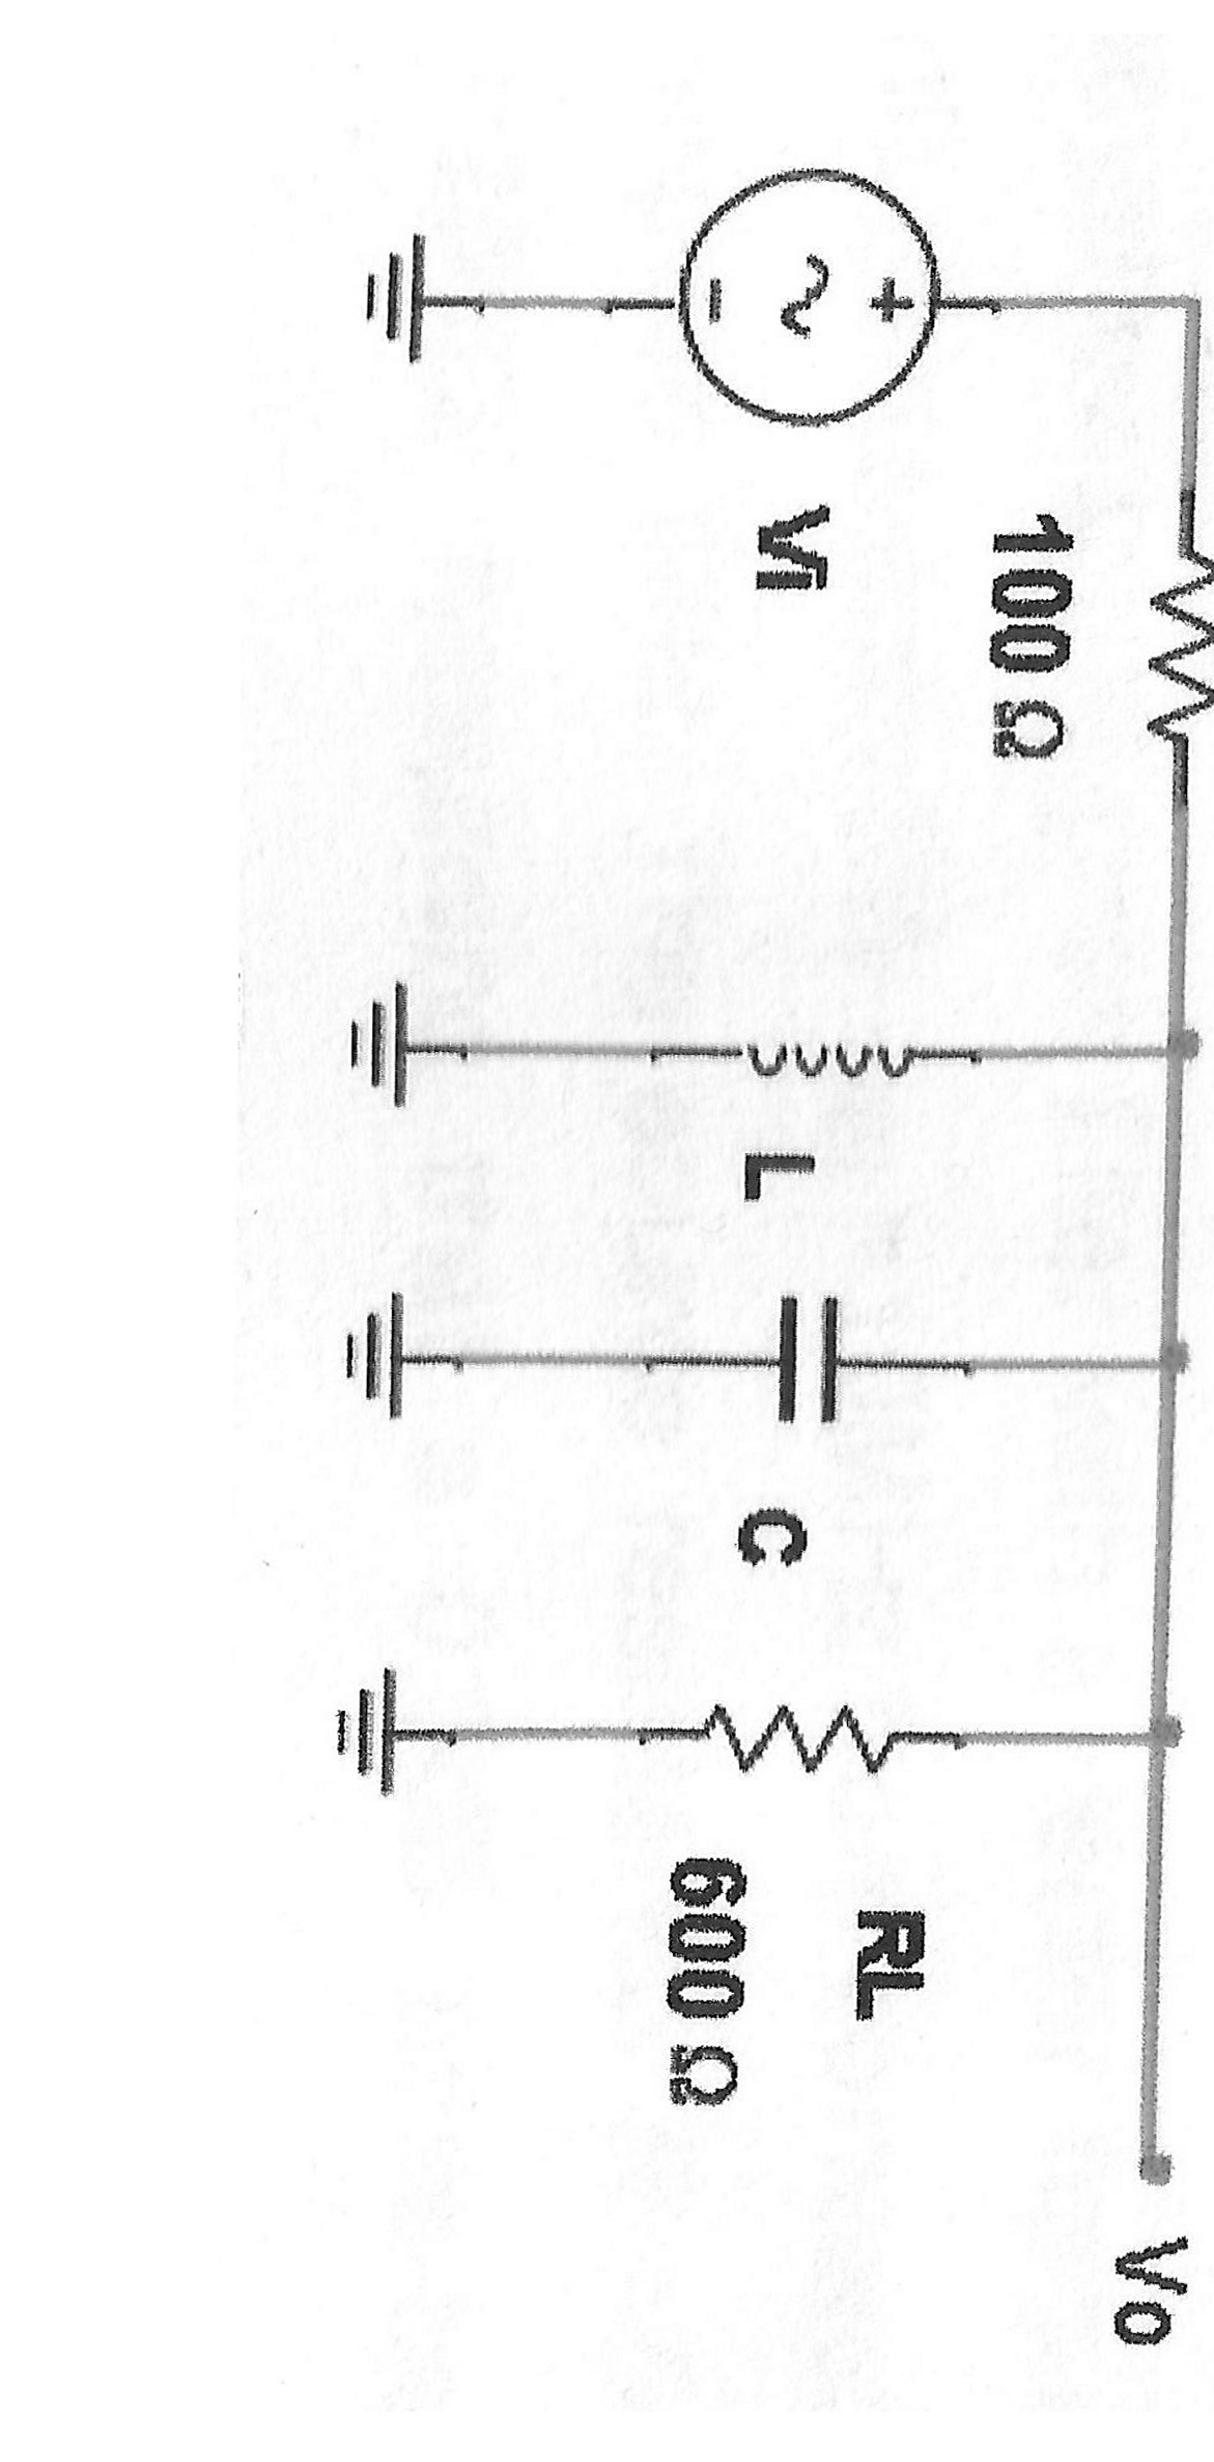Battery: (619, 135, 999, 447)
